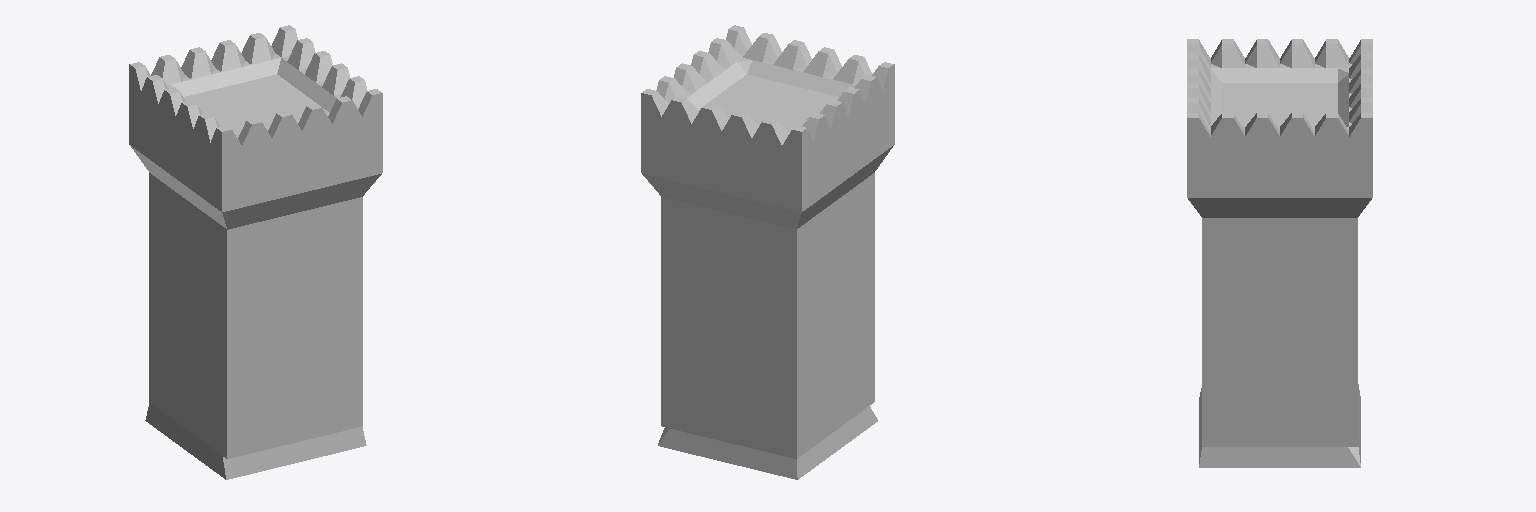
File: Castle.obj
3 views of the same model, side by side, from view 1: azimuth 30°, elevation 25°; view 2: azimuth 150°, elevation 25°; view 3: azimuth 270°, elevation 25° (orthographic).
Parts seen in each view (by area): view 1: Cube; view 2: Cube; view 3: Cube.
Boxes of the visible parts, x1,y1,x2,y2 form: Cube: [129, 25, 382, 479]; Cube: [641, 25, 894, 479]; Cube: [1187, 39, 1372, 467].
Size of the model in its own units: 10 by 21.14 by 10.